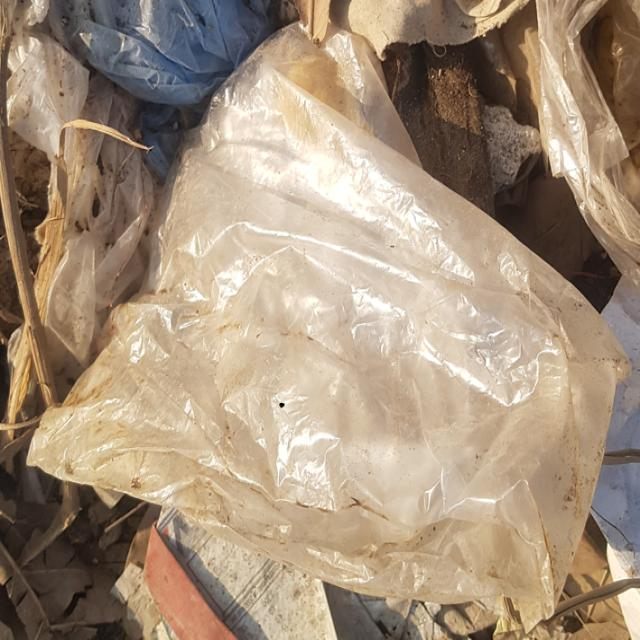general: (24, 15, 631, 628)
